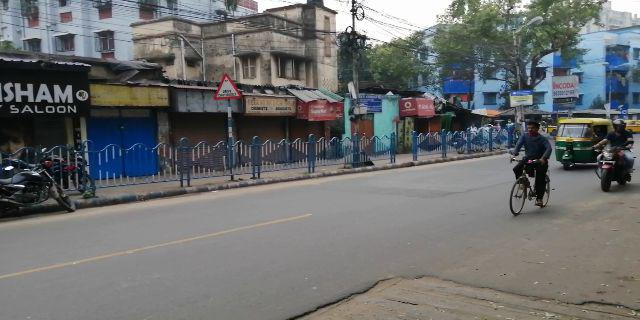Autorickshaw: (557, 118, 614, 168)
Cycle: (504, 125, 557, 213)
Motorbike: (593, 124, 636, 193)
